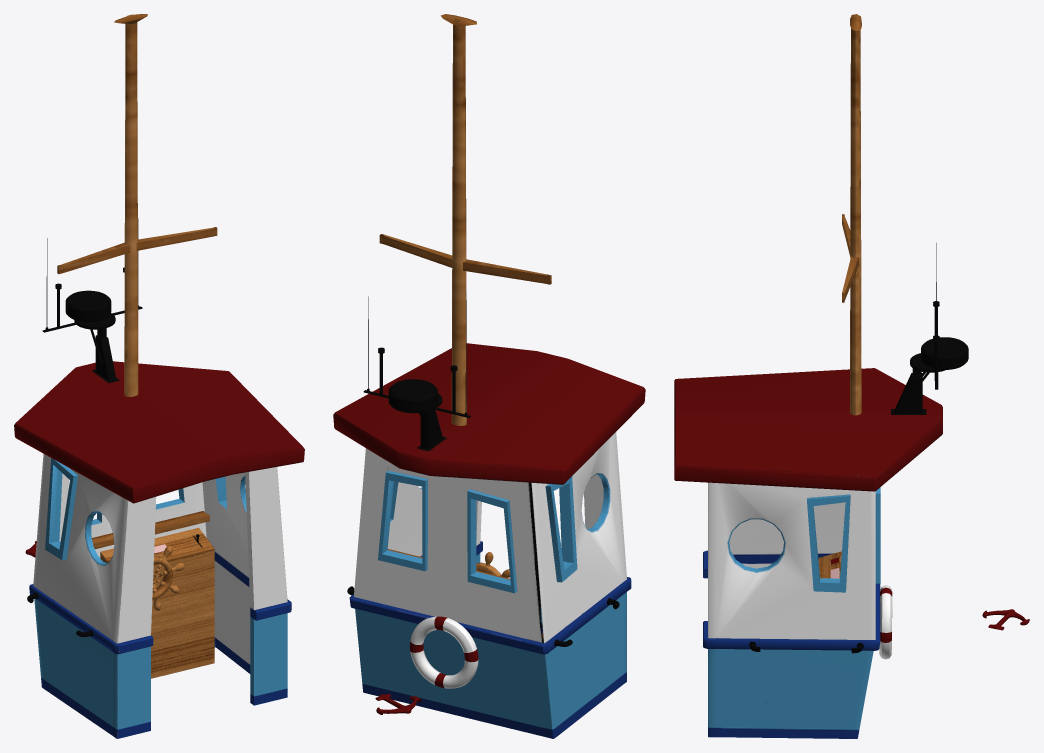
The model's file is cabine.obj.
3 renders of one model, left to right at view 1: azimuth 30°, elevation 25°; view 2: azimuth 150°, elevation 25°; view 3: azimuth 270°, elevation 25°, orthographic. The views are drawn at different scales.
Visible parts, largest first — view 1: Material-CABINA; view 2: Material-CABINA; view 3: Material-CABINA.
Boxes of the visible parts, box(x1,y1,x2,y2) form: Material-CABINA: box(14, 14, 304, 738); Material-CABINA: box(333, 14, 645, 738); Material-CABINA: box(674, 14, 1029, 738).
Bounding box in the file's own units: 2.61 × 7.49 × 3.58.
Materials: 1 (1 with a texture image).
